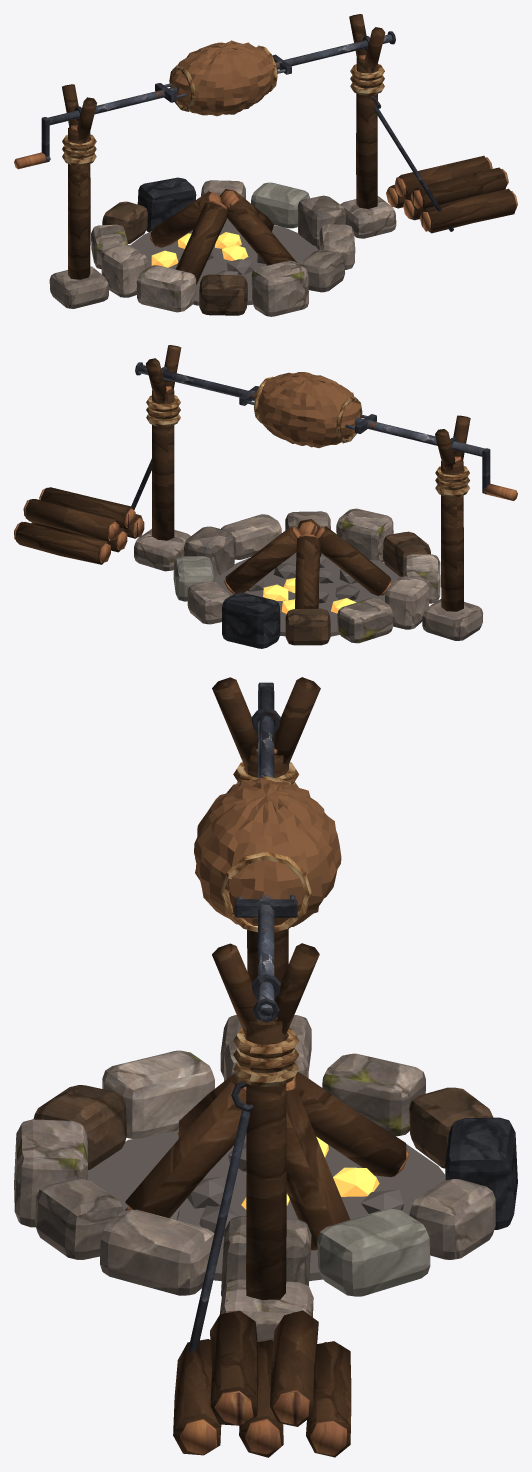
File: cooking_spit.glb
3 renders of one model, top to bottom at view 1: azimuth 30°, elevation 25°; view 2: azimuth 150°, elevation 25°; view 3: azimuth 270°, elevation 25°, orthographic. The views are drawn at different scales.
Visible parts, largest first — view 1: model; view 2: model; view 3: model.
Boxes of the visible parts, x1,y1,x2,y2 form: model: [14, 14, 517, 316]; model: [14, 345, 517, 648]; model: [14, 677, 517, 1457].
Bounding box in the file's own units: 1.99 × 0.8855 × 0.9601.
21 materials, 15 textured.
